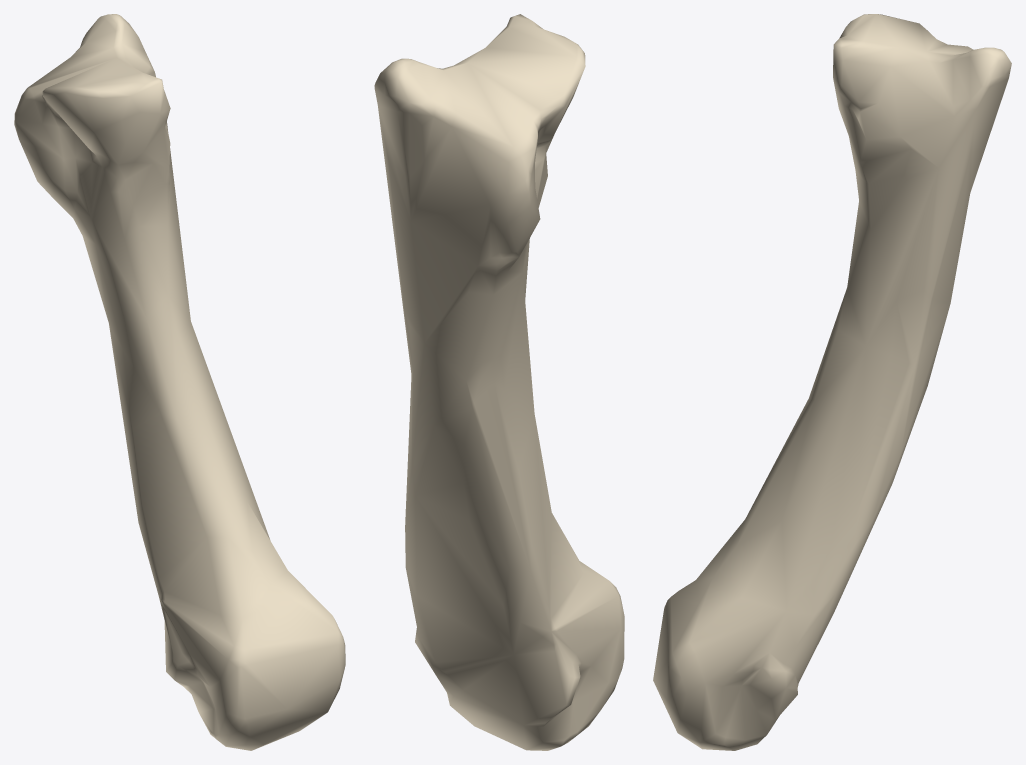
Rendered from third-metacarpal-bone-l.glb.
3 renders of one model, left to right at view 1: azimuth 30°, elevation 25°; view 2: azimuth 150°, elevation 25°; view 3: azimuth 270°, elevation 25°, orthographic. The views are drawn at different scales.
Parts seen in each view (by area): view 1: Third metacarpal bone.l; view 2: Third metacarpal bone.l; view 3: Third metacarpal bone.l.
Boxes of the visible parts, box(x1,y1,x2,y2) form: Third metacarpal bone.l: box(14, 14, 345, 750); Third metacarpal bone.l: box(374, 14, 624, 750); Third metacarpal bone.l: box(653, 14, 1011, 750).
Size of the model in its own units: 0.0208 by 0.0667 by 0.0317.
